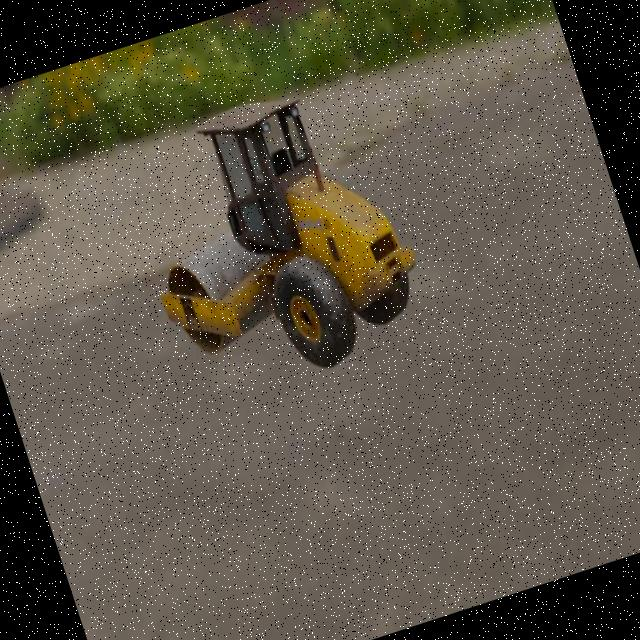Roller: (112, 68, 440, 412)
